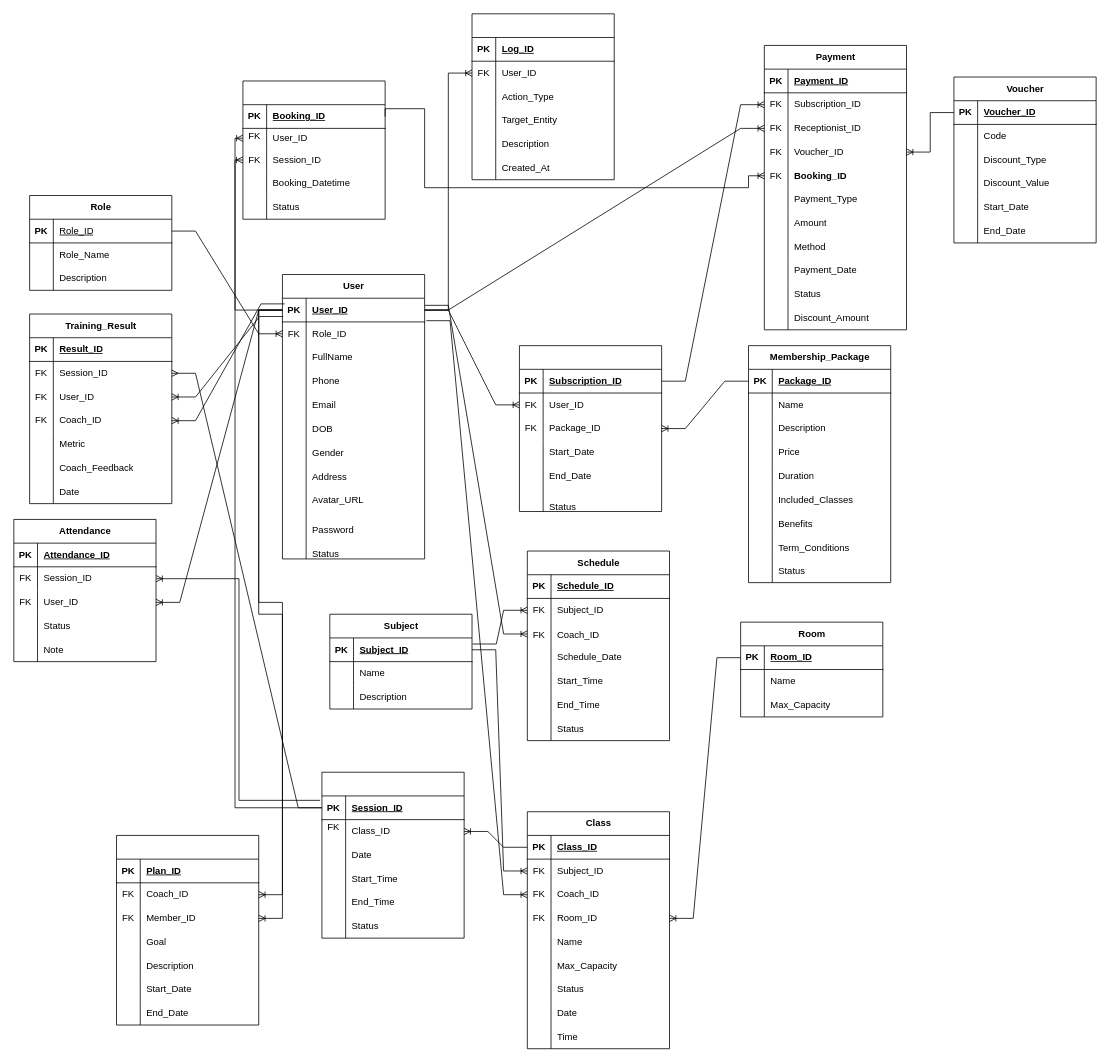
The diagram is 1110 pixels wide and 1063 high, and some of its shapes have lost their labels. The box of each missing label's shape, as (x1, y1, x2, y2) in pixels:
Activity_Log: (471, 13, 614, 180)
Class_Booking: (242, 80, 385, 219)
Class_Session: (321, 771, 464, 938)
Member_Subscription: (519, 345, 662, 512)
Training_Plan: (116, 835, 259, 1025)
